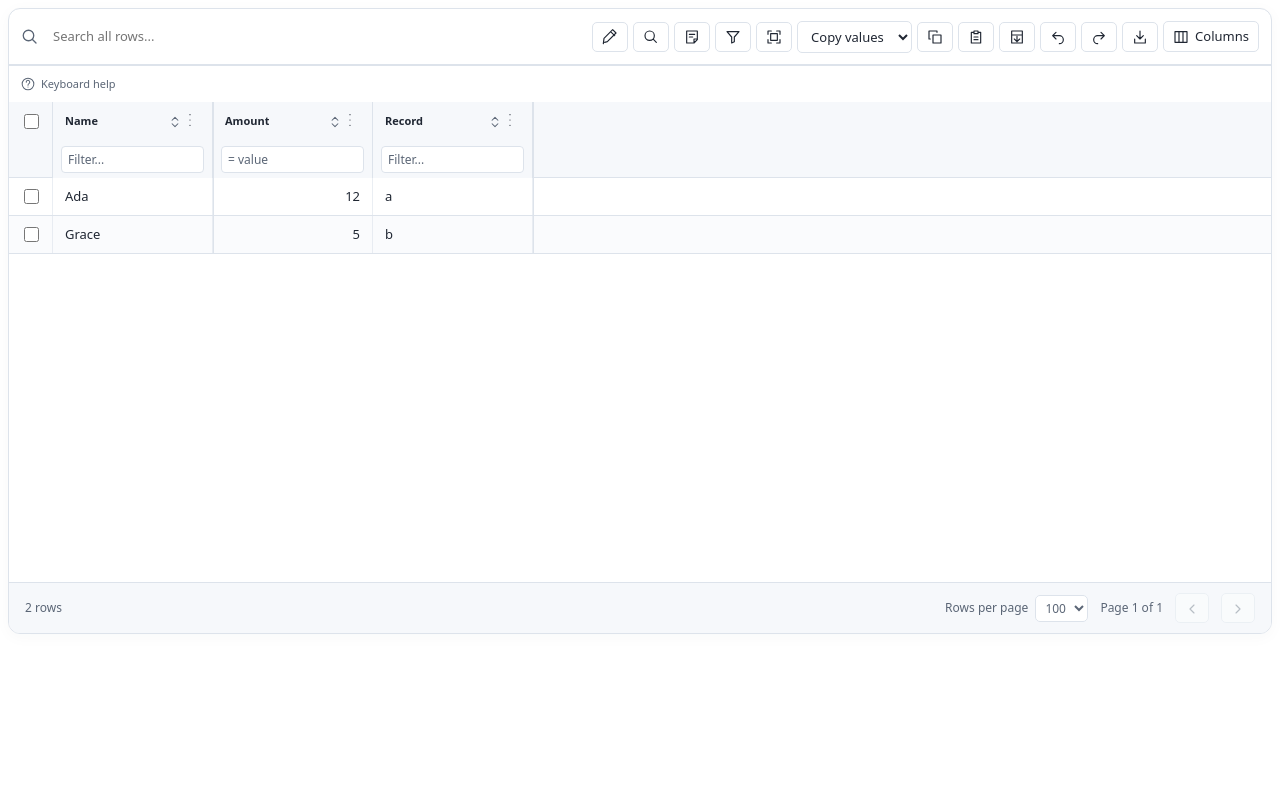
Scenario: DataGrid contextual commands › pastes through atomic validation, retains a rejected menu and retries with one undo
The width and height of the screenshot is (1280, 800).
Right-click the cell "Ada" at (133, 196), box 53,178 -> 213,215
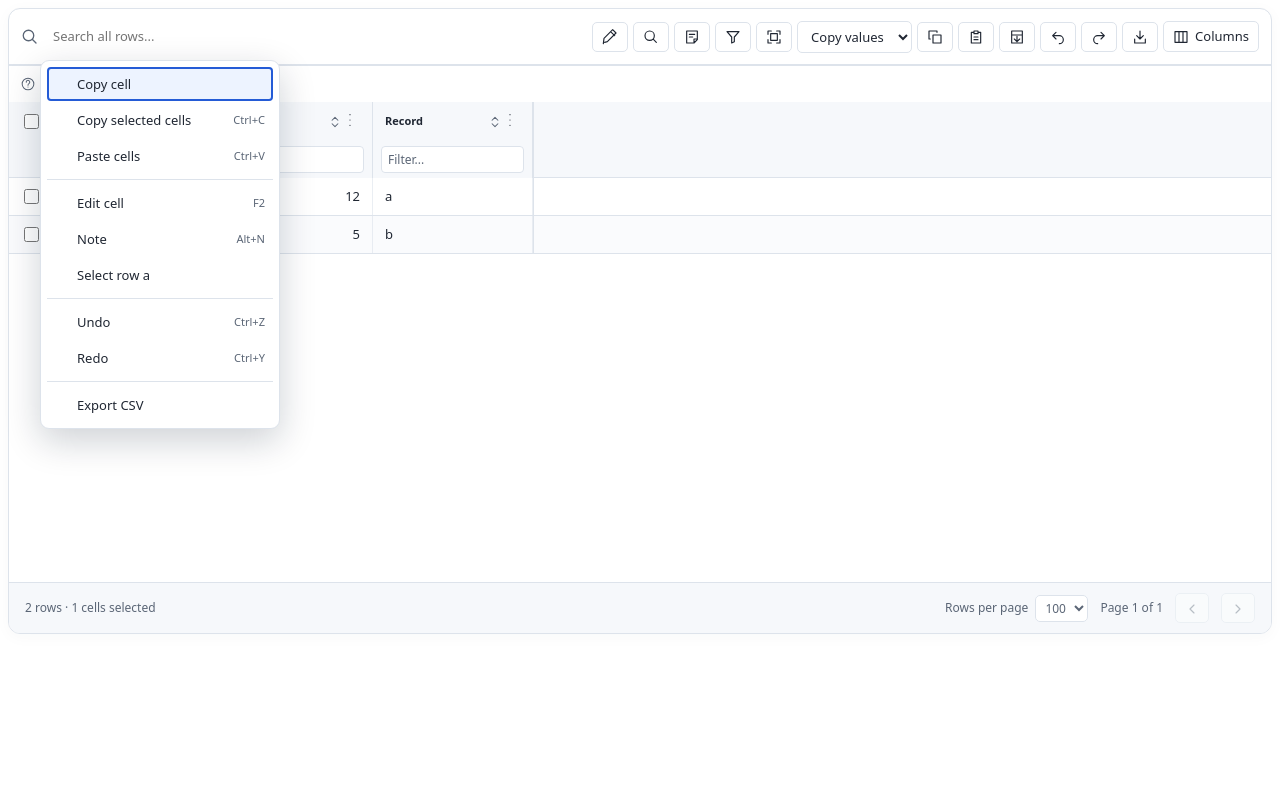
Click the menu item "Paste cells Ctrl+V" at (160, 156), box 47,139 -> 273,173
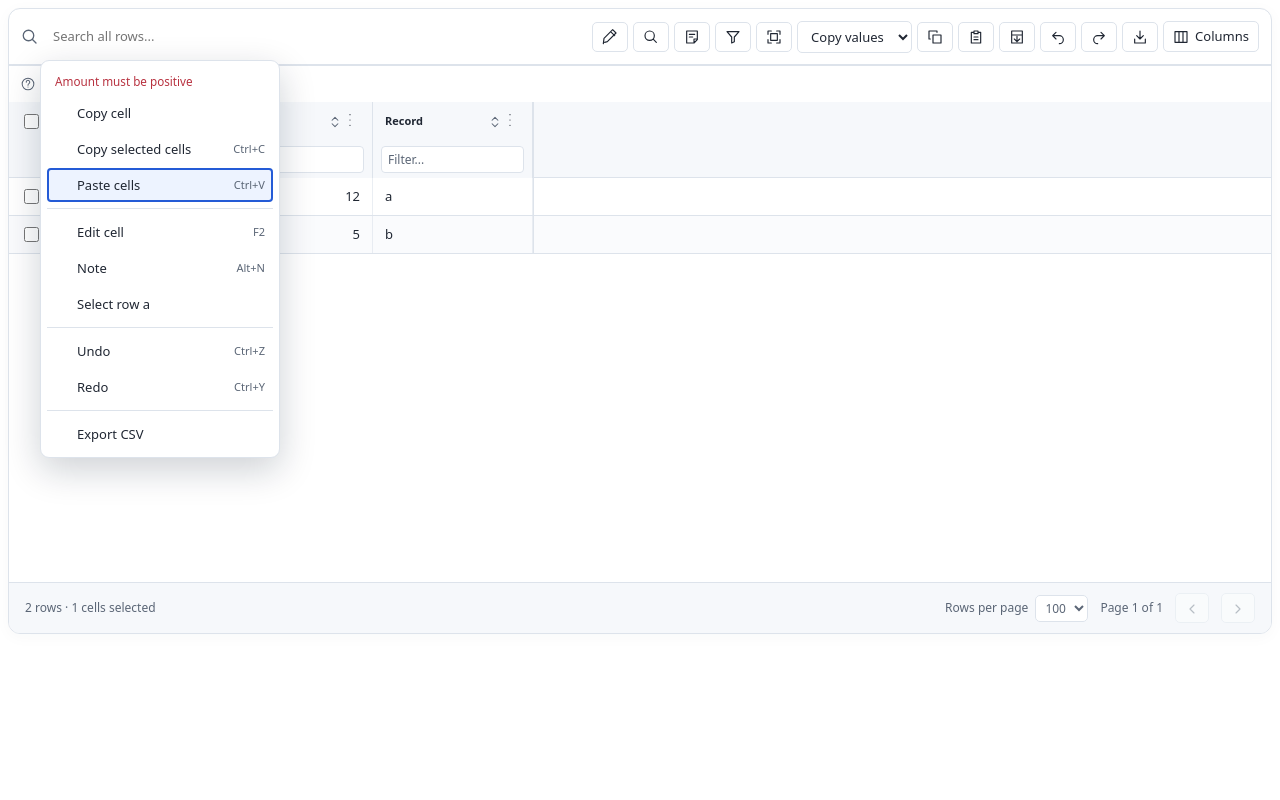
Result: the menu is shown at 47,96 -> 273,451
Result: the message reads "Amount must be positive" at 55,73 -> 193,89
Click the menu item "Paste cells Ctrl+V" at (160, 185), box 47,168 -> 273,202
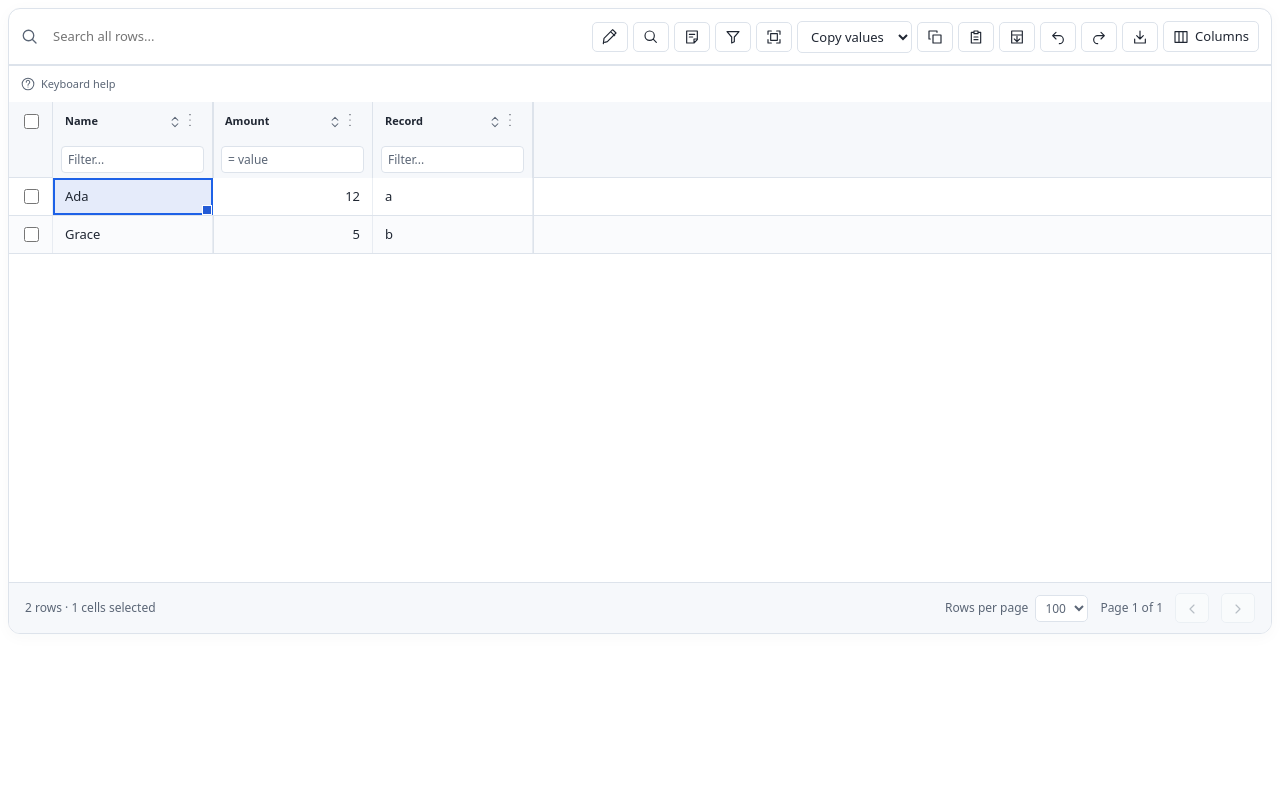
Result: the menu is gone
